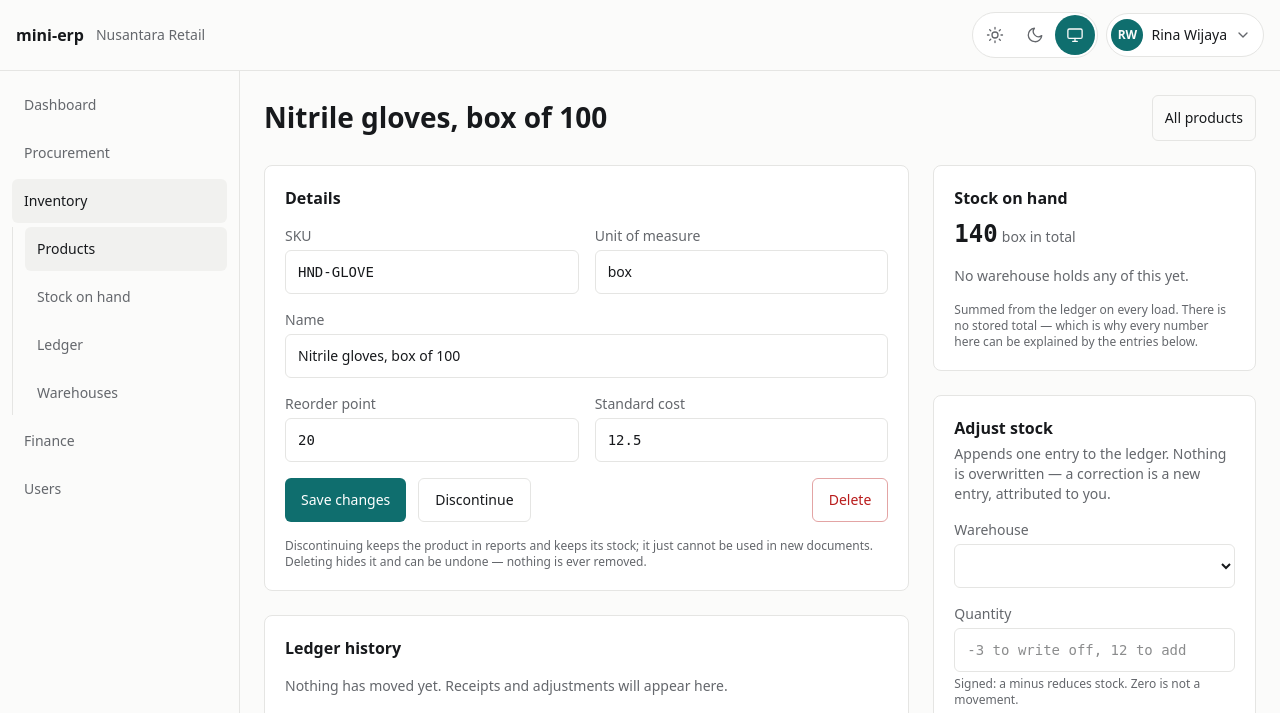
FE23 — the edit form pre-populates from the detail response › submits only the field that changed
Expected: the link "mini-erp" is shown, [16,23,84,47]
Step 1. Replace the text in the field labelled "Standard cost" with "13.75" → (742, 440), box [595,418,888,462]
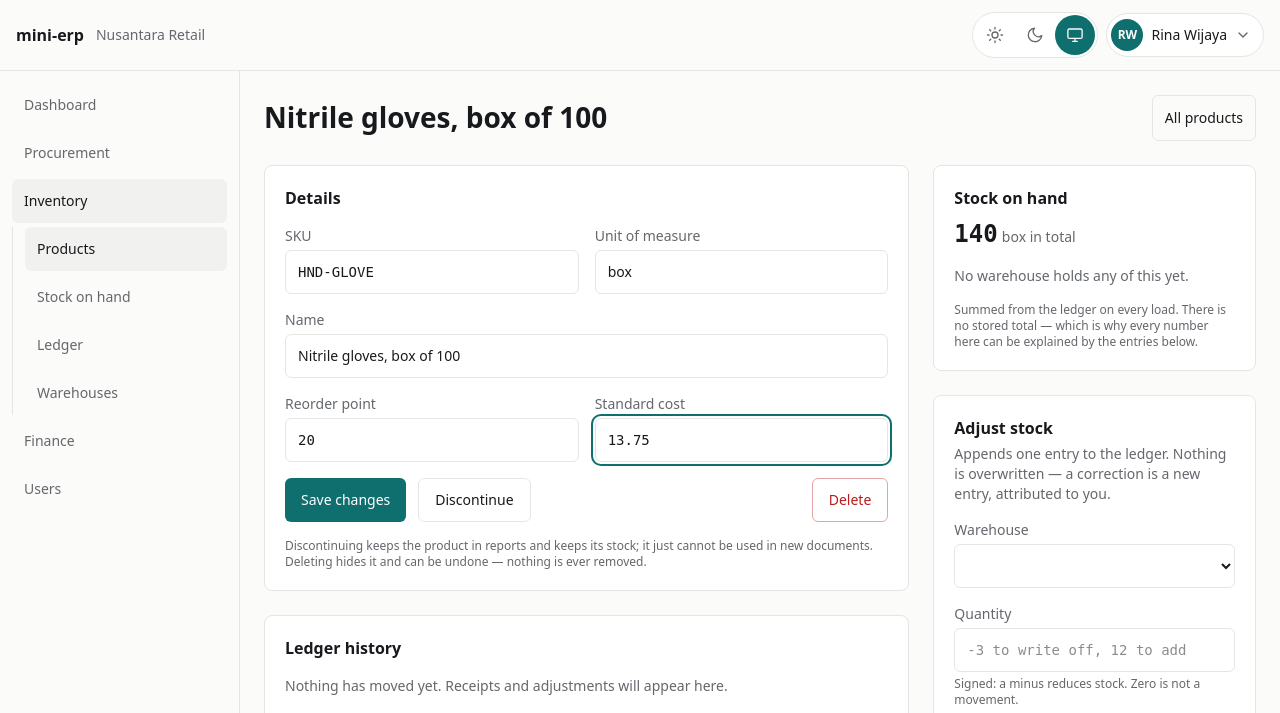
Step 2. Click the button "Save changes" → click(346, 500), box [285,478,406,522]
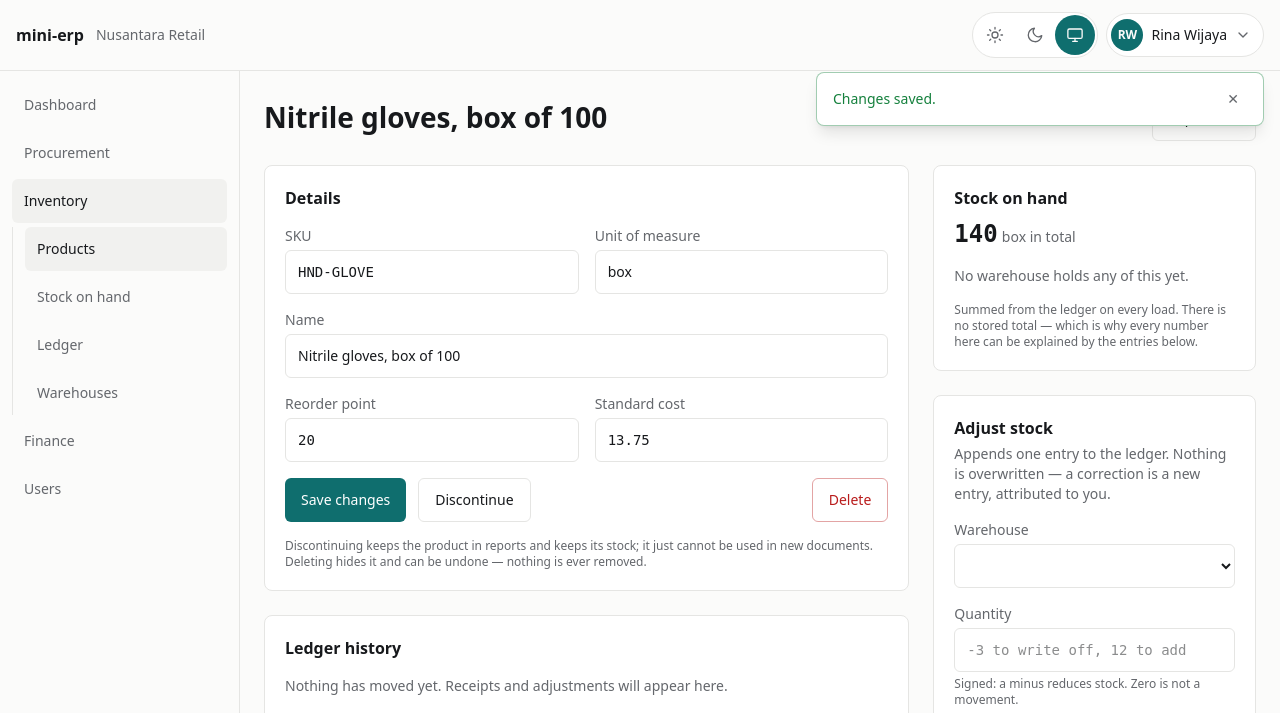
Result: the text "Changes saved." is shown at [833,89,936,108]
